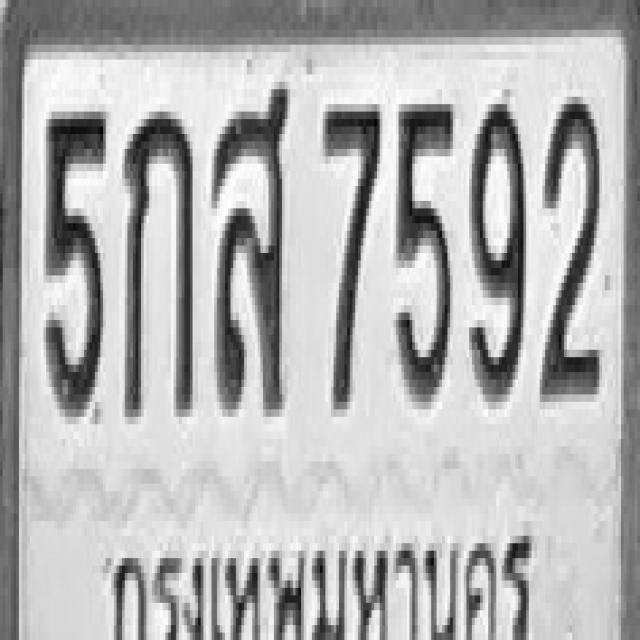10GorGai: (122, 104, 193, 417)
2: (540, 93, 599, 398)
49SorSuea: (212, 78, 288, 413)
5: (43, 104, 106, 417), (395, 97, 454, 402)
7: (322, 97, 380, 409)
9: (469, 97, 524, 402)
